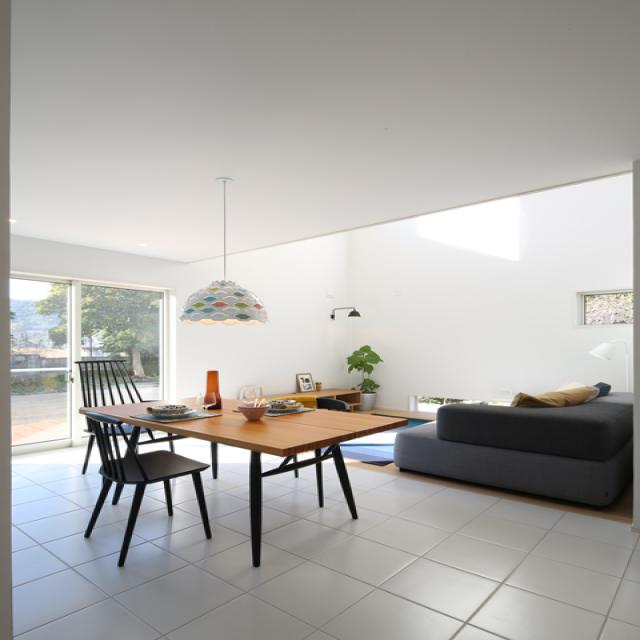vintage chair: (57, 405, 219, 569)
vintage sofa: (392, 389, 636, 512)
